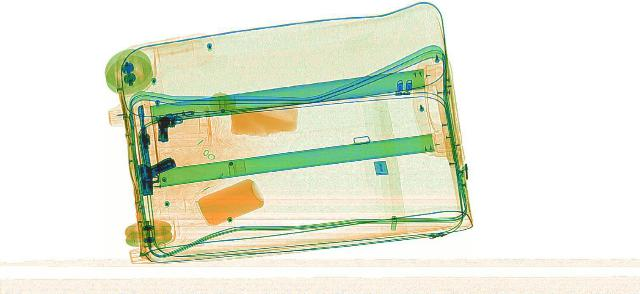Gun: (128, 101, 158, 165), (130, 156, 173, 195), (150, 110, 192, 141)
